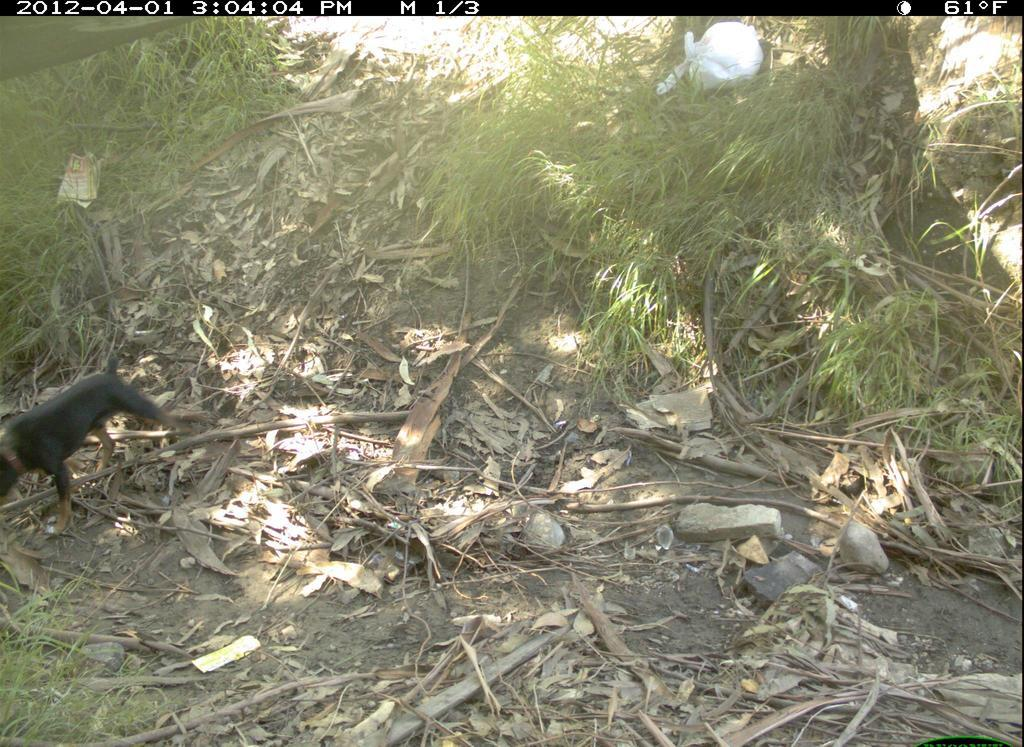dog: (1, 349, 191, 548)
